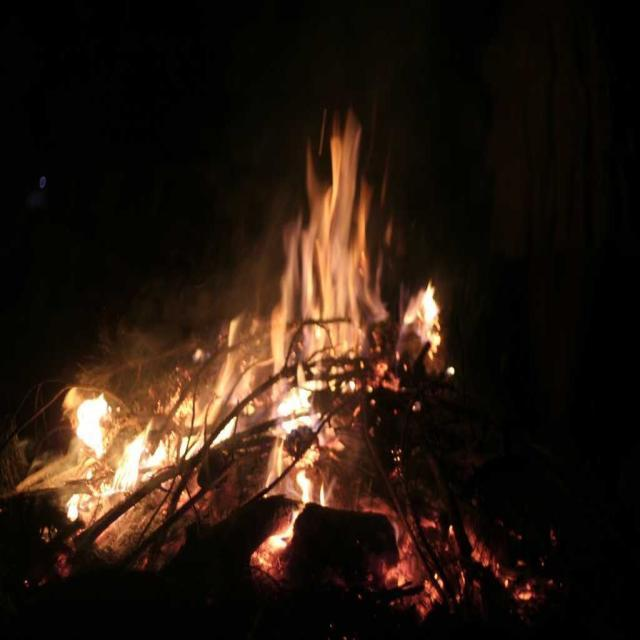Fire: (312, 194, 354, 304), (76, 401, 110, 453)
